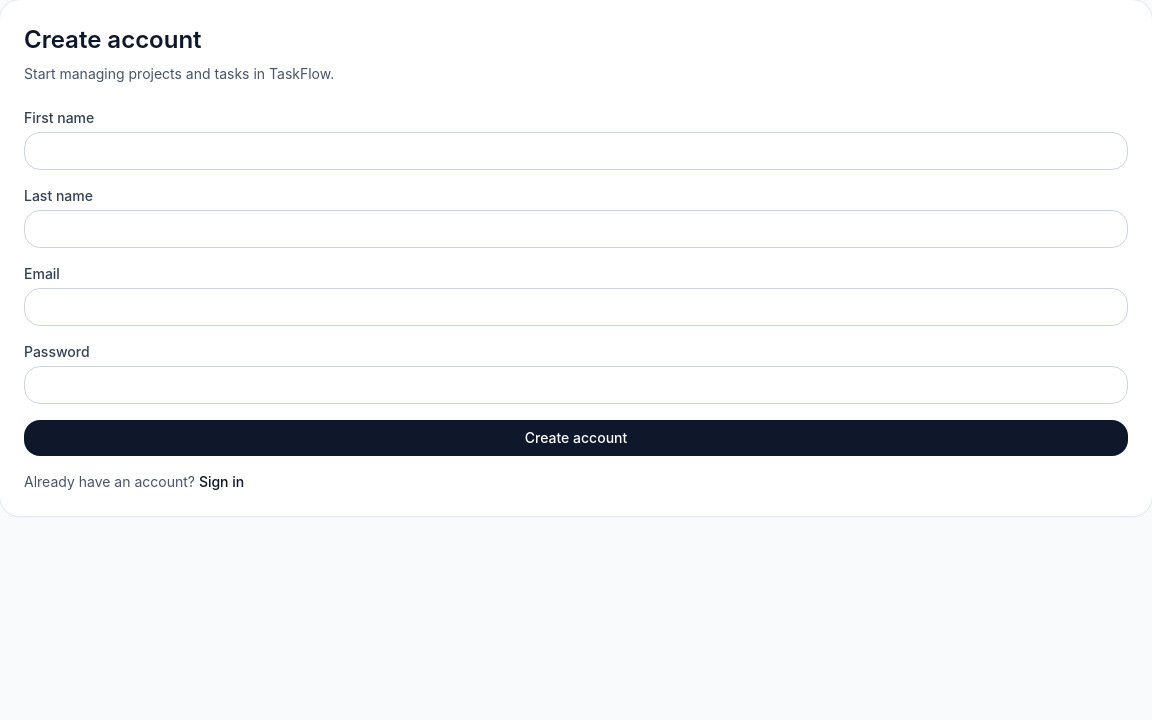
Test: RegisterForm › shows validation errors for empty submit
This screenshot has width=1152, height=720.
Click the button "Create account" at (576, 438), box [24,420,1128,456]
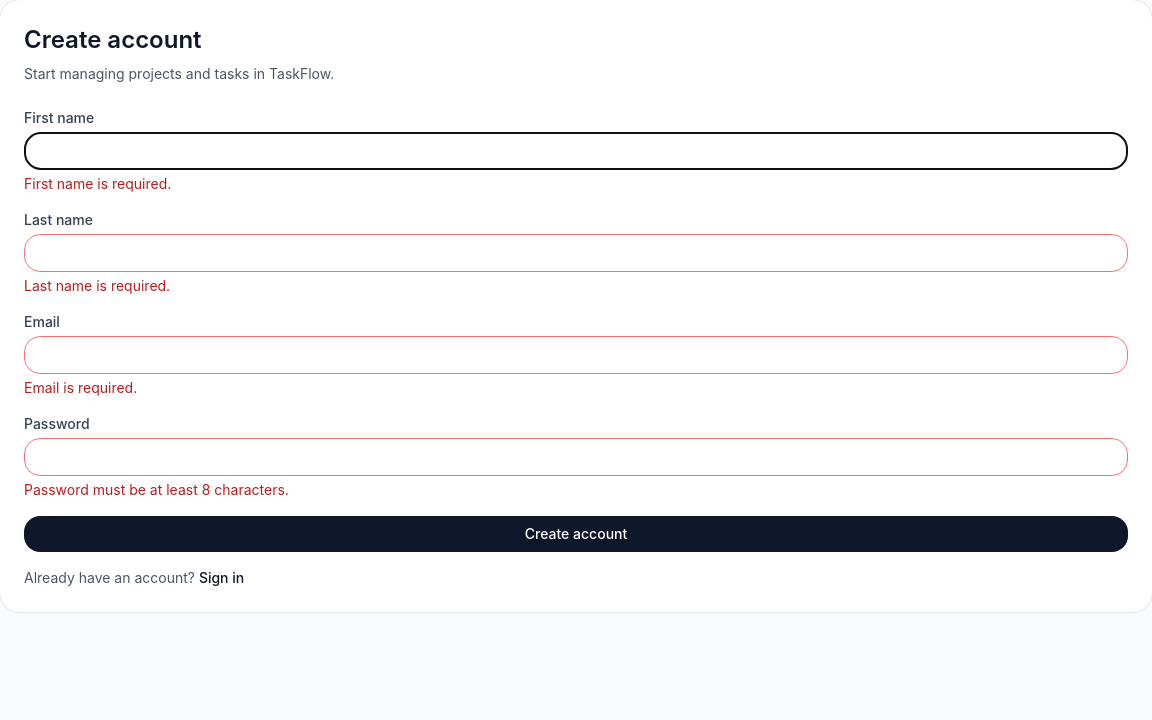
Now the text "First name is required." is shown, box [24,175,171,192]
Now the text "Last name is required." is shown, box [24,277,170,294]
Now the text "Email is required." is shown, box [24,379,137,396]
